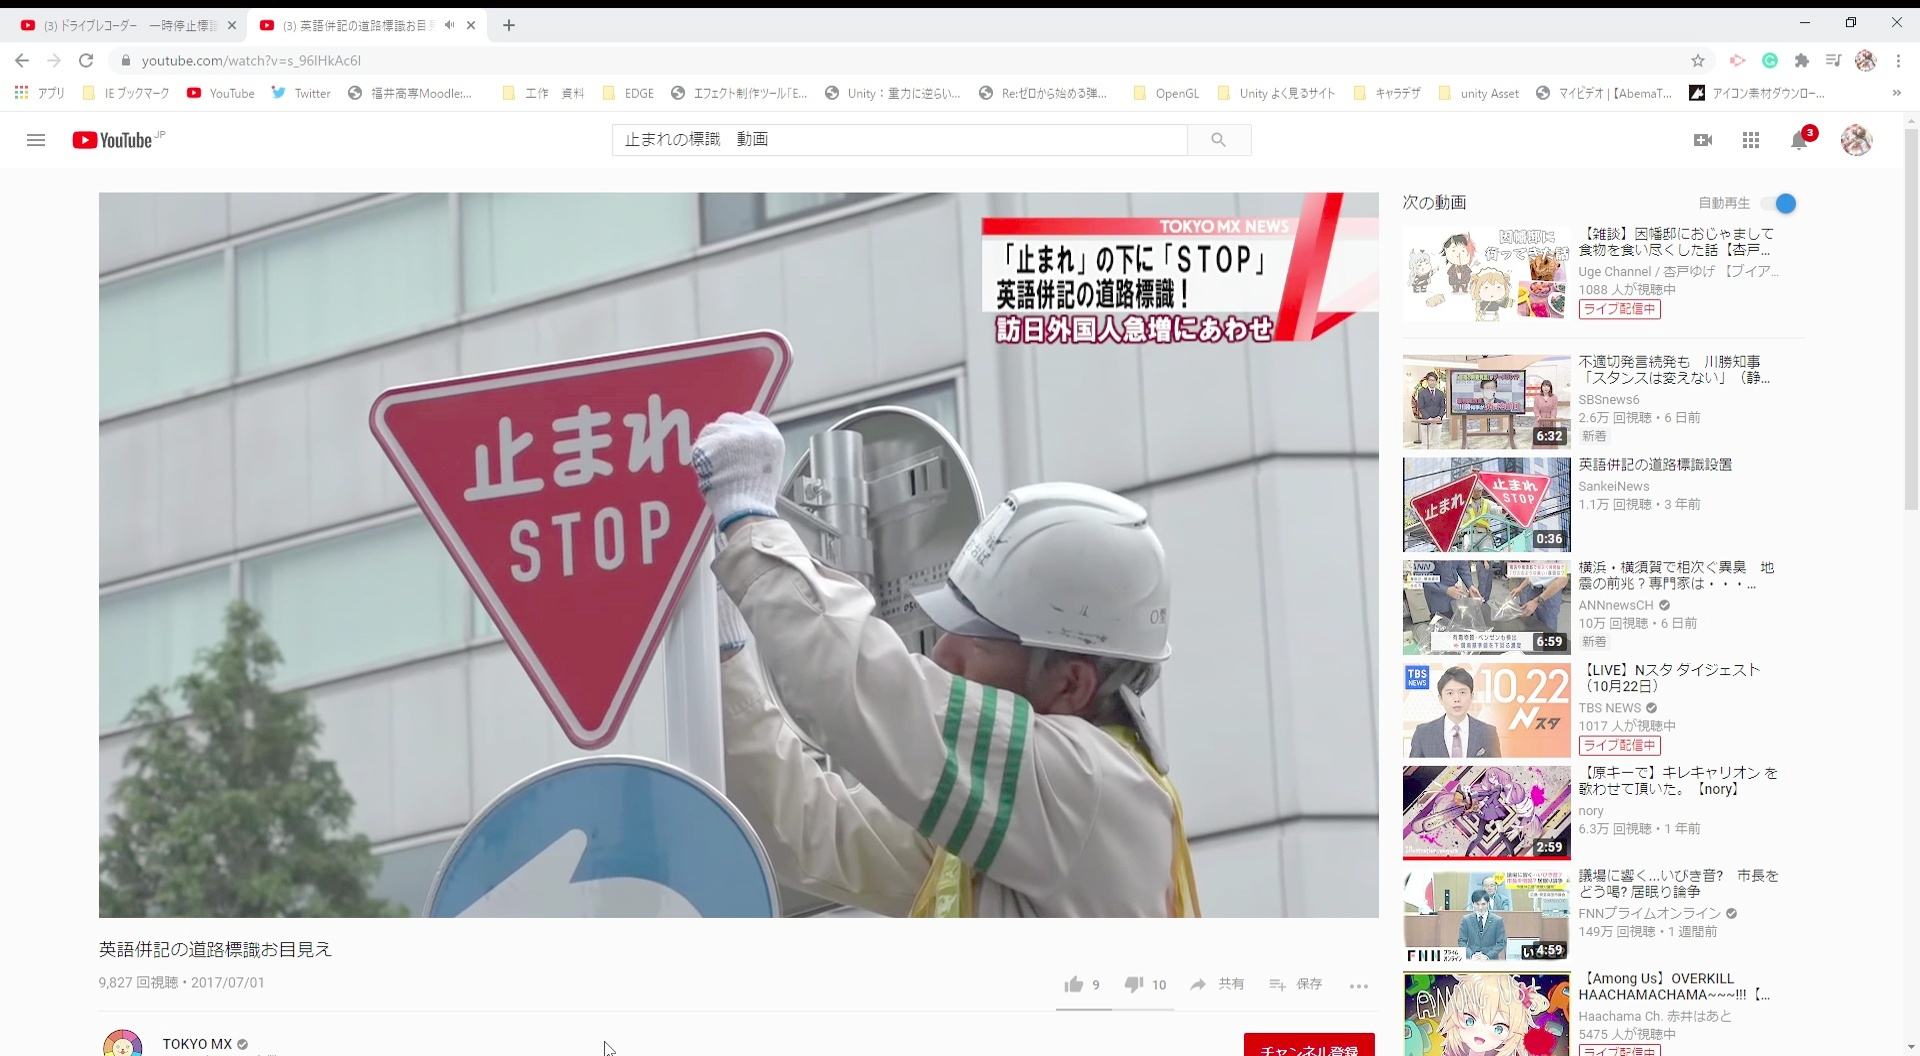Regulatory_sign_triangle: (367, 310, 806, 772)
